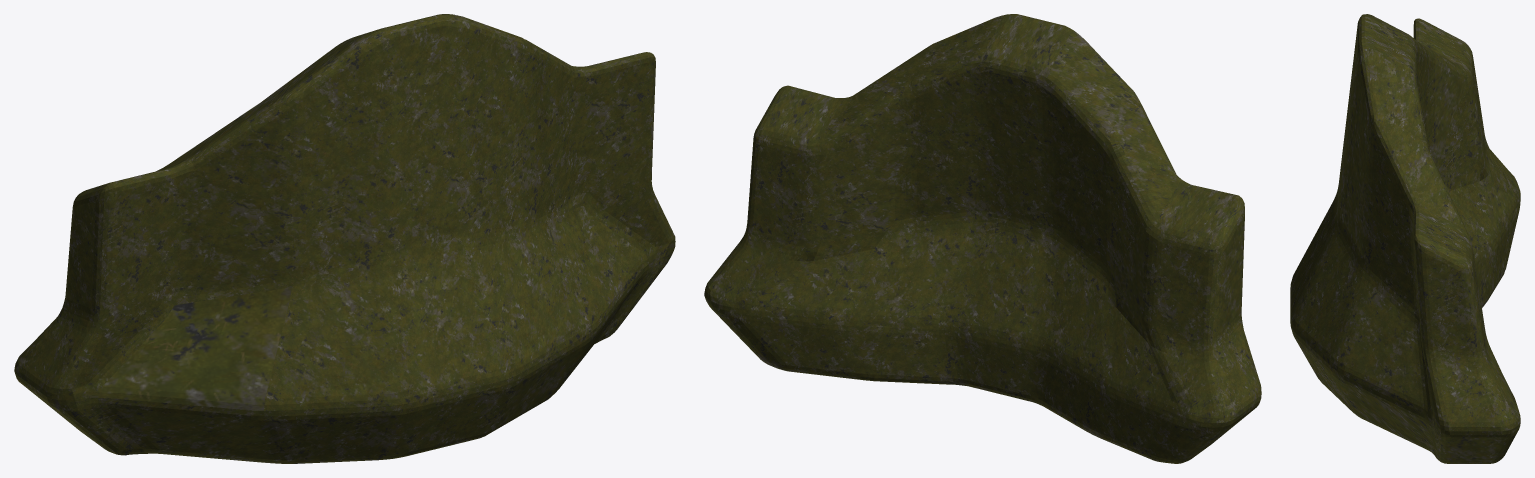
Rendered from MagicWall.fbx.
3 renders of one model, left to right at view 1: azimuth 30°, elevation 25°; view 2: azimuth 150°, elevation 25°; view 3: azimuth 270°, elevation 25°, orthographic. The views are drawn at different scales.
Visible parts, largest first — view 1: Wall; view 2: Wall; view 3: Wall.
Part boxes in pixels (x1,y1,x2,y2): Wall: (14,14,675,463); Wall: (704,14,1261,463); Wall: (1290,14,1520,463).
Bounding box in the file's own units: 566 × 355 × 218.
